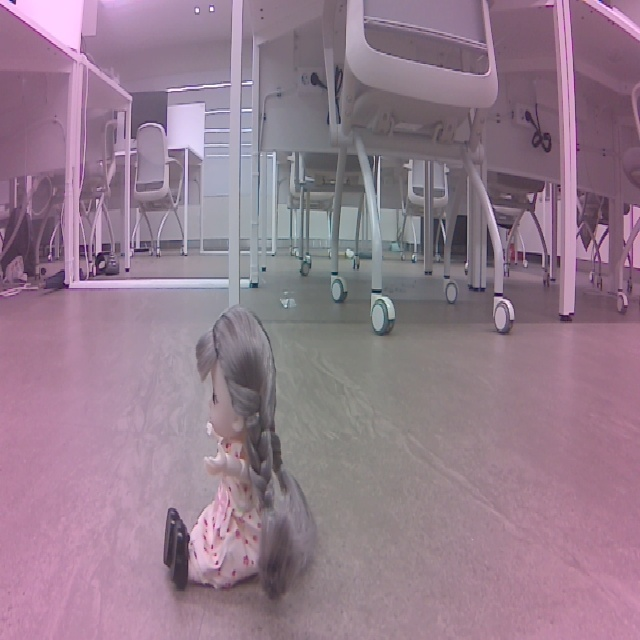장애물: (159, 300, 322, 612)
